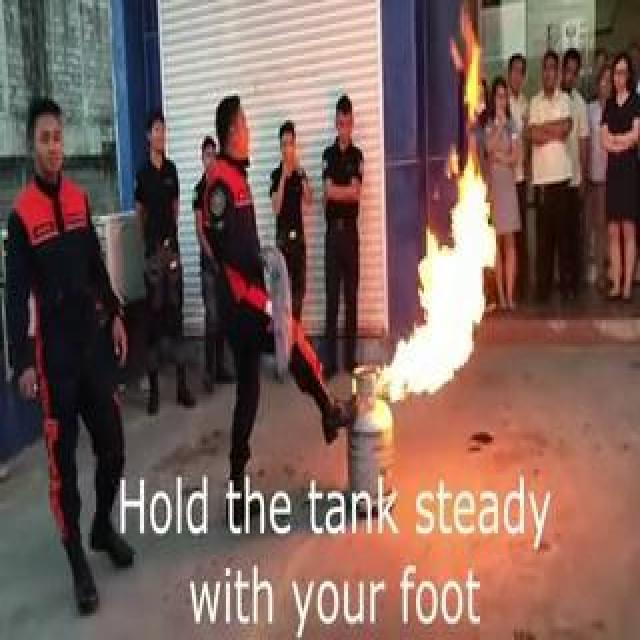Fire: (374, 69, 510, 400)
